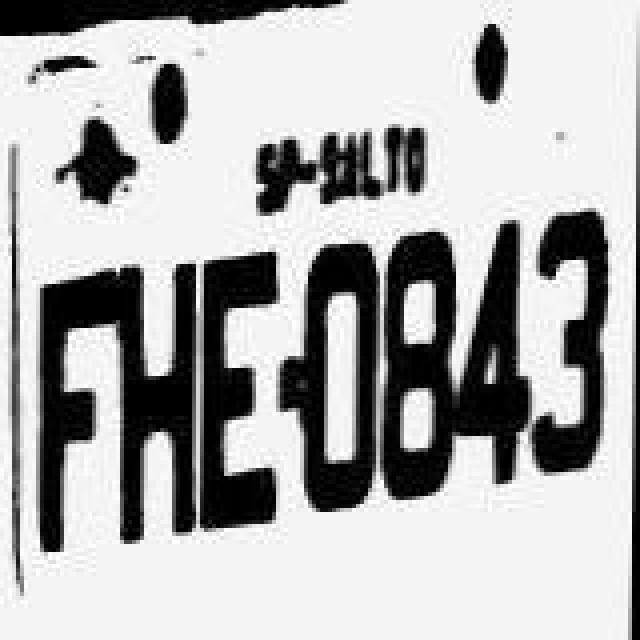3: (530, 210, 614, 478)
4: (456, 222, 536, 490)
8: (378, 232, 462, 504)
E: (194, 246, 294, 530)
F: (38, 260, 122, 556)
H: (106, 258, 206, 542)
O: (298, 238, 382, 514)
